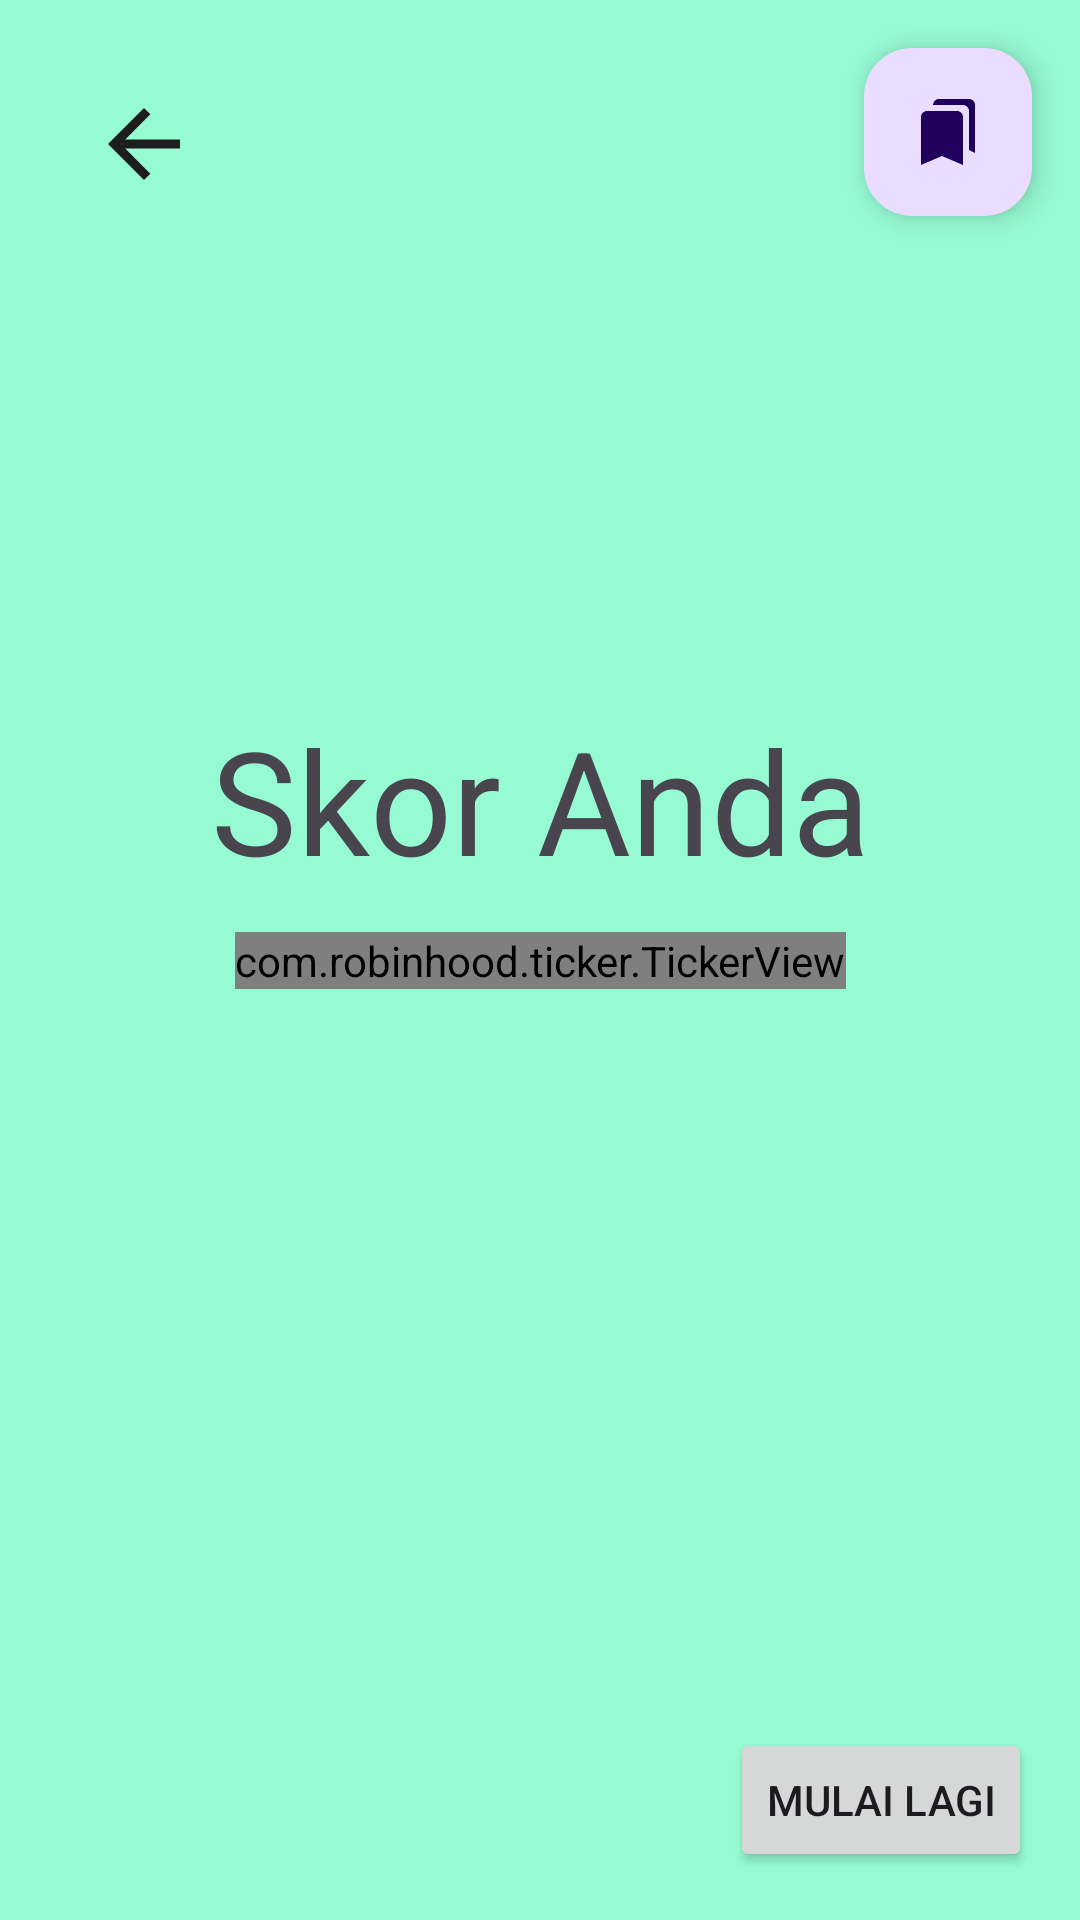

Named icons in this screenshot (1080px×1920px) and their centers, point (x, y):
Kembali: point (144, 144)
